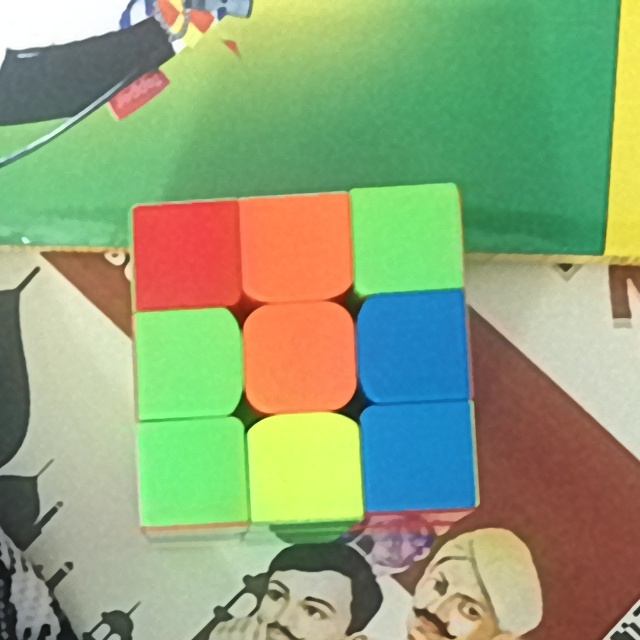tile: (371, 302, 464, 398), (140, 205, 233, 300), (370, 411, 469, 498), (249, 200, 341, 291), (360, 193, 453, 283), (258, 312, 345, 408), (143, 316, 229, 413), (258, 426, 354, 510), (147, 430, 237, 517)
